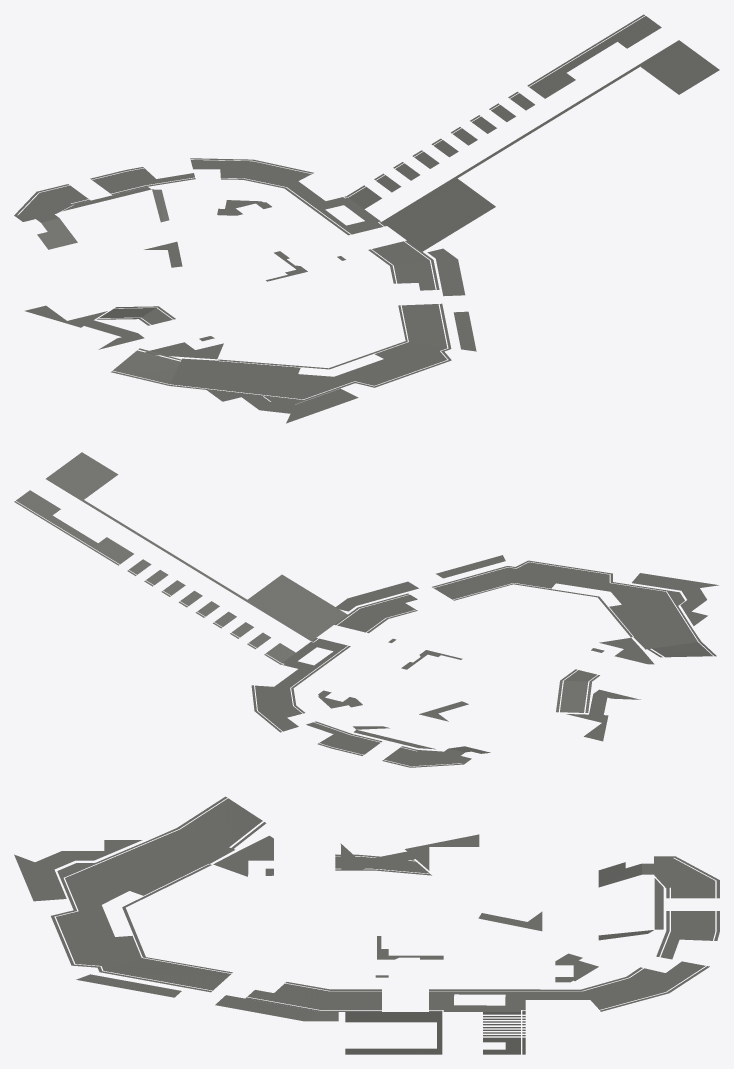
Rendered from kd_stage_135ebf_1_1.glb.
3 views of the same model, one above another, from view 1: azimuth 30°, elevation 25°; view 2: azimuth 150°, elevation 25°; view 3: azimuth 270°, elevation 25° (orthographic). The views are drawn at different scales.
Visible parts, largest first — view 1: kd_stage_135ebf_1_1; view 2: kd_stage_135ebf_1_1; view 3: kd_stage_135ebf_1_1.
Boxes of the visible parts, bbox=[...] form: kd_stage_135ebf_1_1: bbox=[14, 14, 719, 423]; kd_stage_135ebf_1_1: bbox=[14, 452, 718, 767]; kd_stage_135ebf_1_1: bbox=[14, 796, 719, 1054].
Bounding box in the file's own units: 68.91 × 12.6 × 53.88.
Materials: 1 (1 with a texture image).
